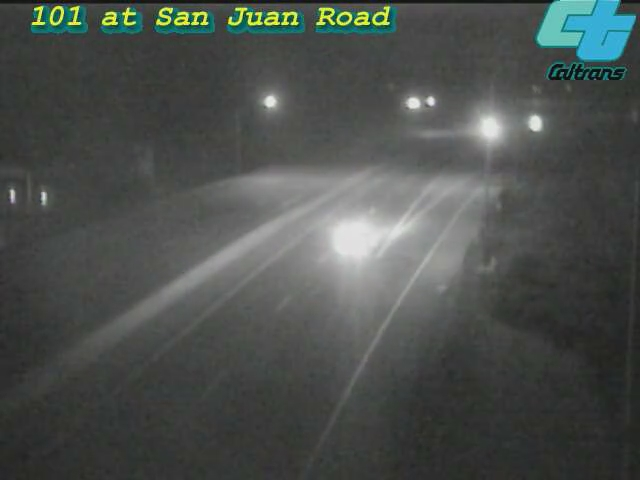vehicle: (321, 191, 401, 271), (458, 103, 508, 153), (506, 99, 556, 149)
